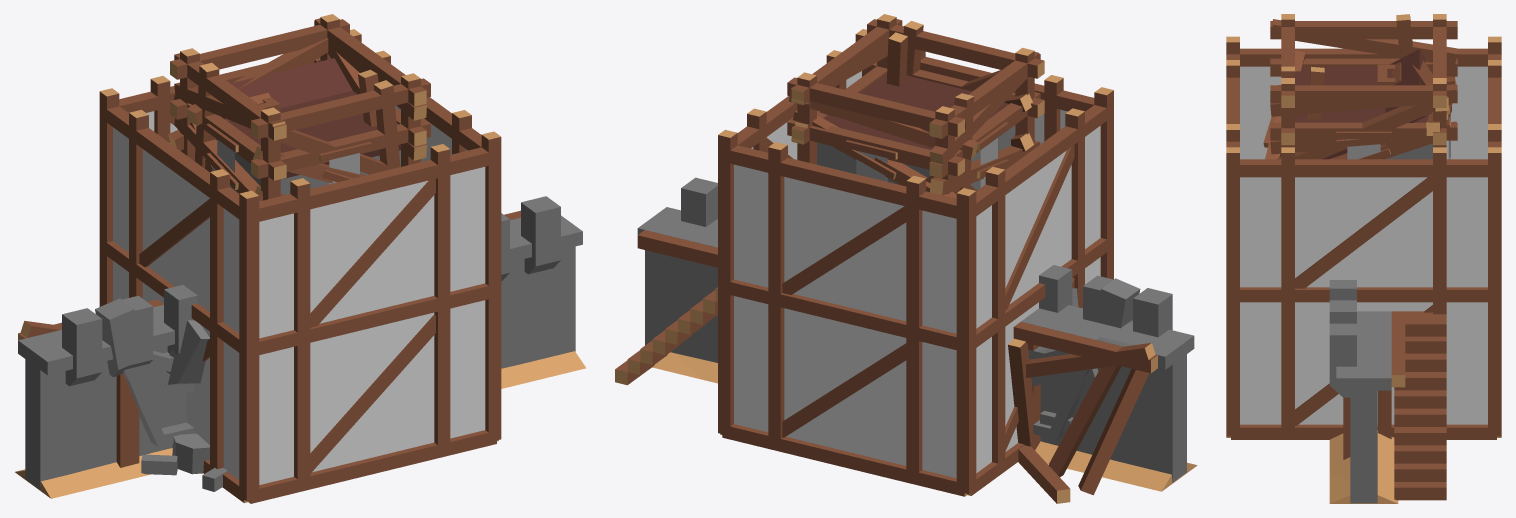
The model's file is Stone Tower 2.fbx.
3 renders of one model, left to right at view 1: azimuth 30°, elevation 25°; view 2: azimuth 150°, elevation 25°; view 3: azimuth 270°, elevation 25°, orthographic. The views are drawn at different scales.
Parts seen in each view (by area): view 1: Scaffold, Wall (×4), Carcass, Destruction_phase_3, Destruction_phase_2, Destruction_phase_1, Second_Floor; view 2: Scaffold, Wall (×4), Carcass, Destruction_phase_3, Second_Floor, Destruction_phase_1, Destruction_phase_2; view 3: Scaffold, Wall, Carcass, Destruction_phase_3, Second_Floor, Destruction_phase_1, Destruction_phase_2, Flag_2.
Boxes of the visible parts, x1,y1,x2,y2 form: Scaffold: (99, 29, 501, 503); Wall (×4): (15, 196, 585, 498); Carcass: (170, 14, 430, 200); Destruction_phase_3: (168, 38, 407, 201); Destruction_phase_2: (222, 58, 378, 183); Destruction_phase_1: (281, 18, 426, 179); Second_Floor: (216, 91, 400, 194); Scaffold: (718, 29, 1113, 496); Wall (×4): (615, 177, 1197, 503); Carcass: (787, 14, 1044, 194); Destruction_phase_3: (789, 52, 1040, 198); Second_Floor: (817, 73, 1014, 190); Destruction_phase_1: (791, 21, 923, 143); Destruction_phase_2: (795, 32, 1032, 140); Scaffold: (1226, 36, 1501, 439); Wall: (1329, 280, 1446, 503); Carcass: (1270, 14, 1457, 147); Destruction_phase_3: (1271, 14, 1457, 159); Second_Floor: (1295, 64, 1432, 159); Destruction_phase_1: (1270, 66, 1456, 154); Destruction_phase_2: (1263, 49, 1450, 159); Flag_2: (1347, 139, 1380, 159).
Size of the model in its own units: 4.2 by 2.72 by 2.
